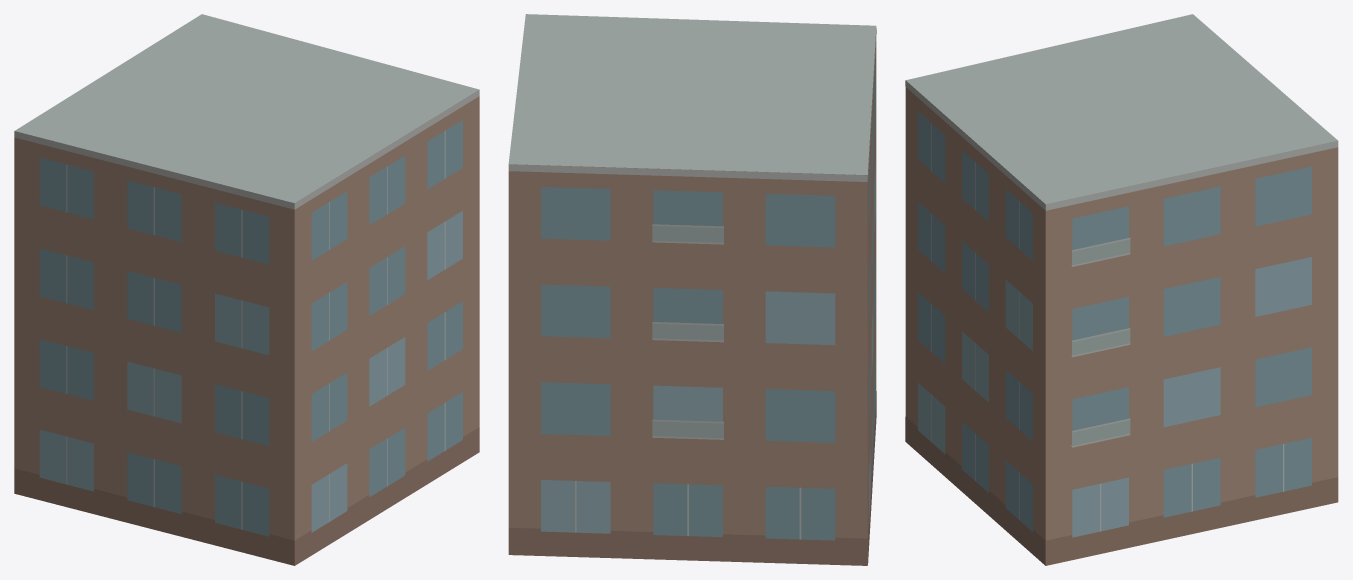
The model's file is survey-upis-32755498.glb.
3 views of the same model, side by side, from view 1: azimuth 30°, elevation 25°; view 2: azimuth 150°, elevation 25°; view 3: azimuth 270°, elevation 25° (orthographic). The views are drawn at different scales.
Parts seen in each view (by area): view 1: survey-upis-32755498.tmp; view 2: survey-upis-32755498.tmp; view 3: survey-upis-32755498.tmp.
Part boxes in pixels (<box>): survey-upis-32755498.tmp: <box>14,14,479,565</box>; survey-upis-32755498.tmp: <box>508,14,876,565</box>; survey-upis-32755498.tmp: <box>905,14,1338,565</box>.
Bounding box in the file's own units: 15.48 × 13.7 × 14.87.
